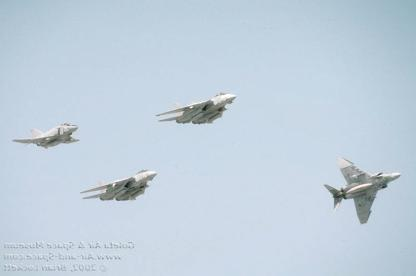EF2000: (156, 92, 238, 124), (80, 169, 158, 201)
F35: (324, 158, 402, 224), (12, 122, 80, 149)
